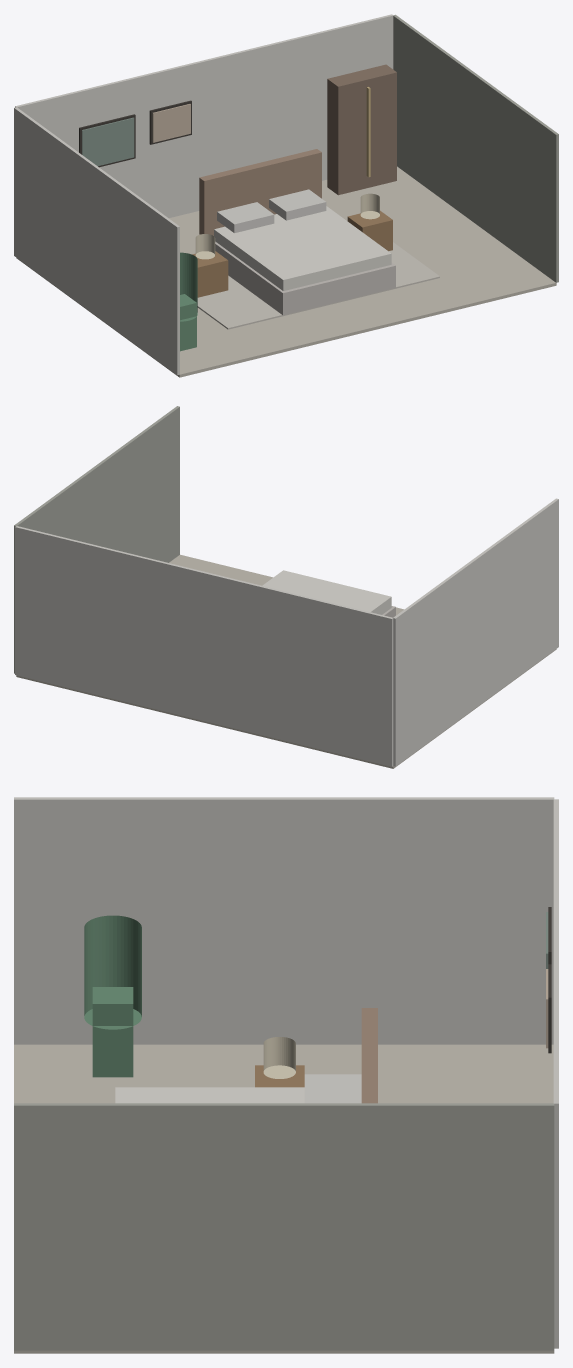
The model's file is portfolio_bedroom.glb.
3 views of the same model, one above another, from view 1: azimuth 30°, elevation 25°; view 2: azimuth 150°, elevation 25°; view 3: azimuth 270°, elevation 25° (orthographic). The views are drawn at different scales.
Parts seen in each view (by area): view 1: PortfolioBedroom; view 2: PortfolioBedroom; view 3: PortfolioBedroom.
Boxes of the visible parts, x1=… form: PortfolioBedroom: x1=14, y1=14, x2=558, y2=377; PortfolioBedroom: x1=14, y1=406, x2=558, y2=768; PortfolioBedroom: x1=14, y1=797, x2=558, y2=1353.
Size of the model in its own units: 8.1 by 3.06 by 6.05.
